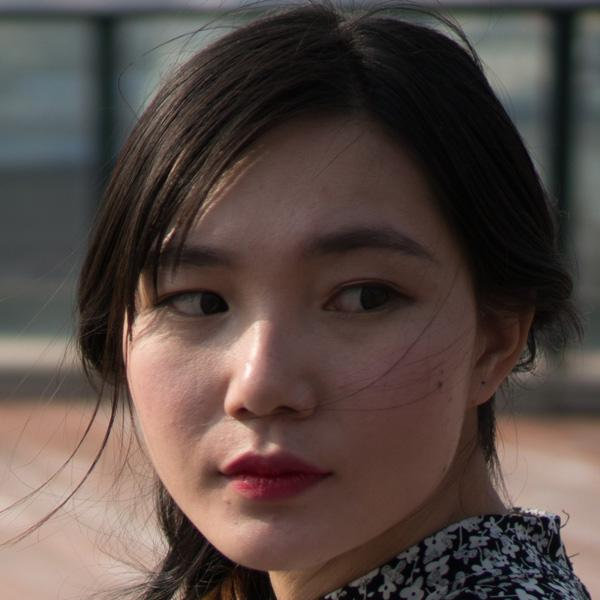Eyes: (314, 272, 424, 329), (147, 279, 236, 332)
